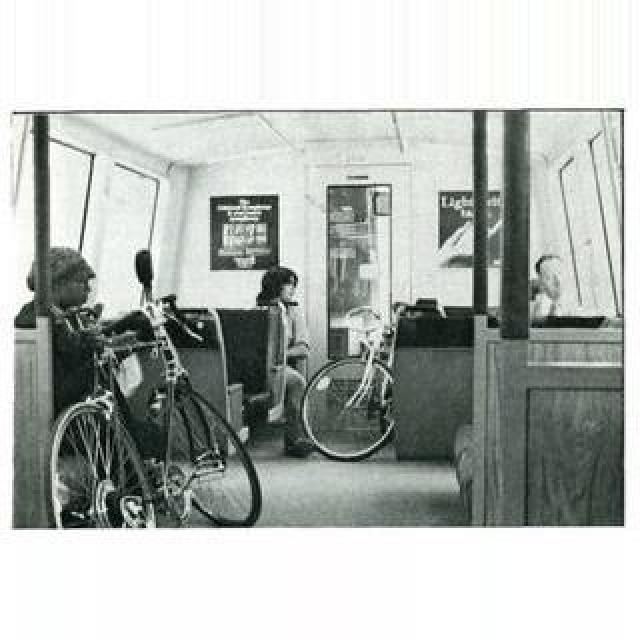MC-Bike: (256, 266, 314, 456)
Person: (50, 295, 260, 527), (299, 302, 415, 462)
